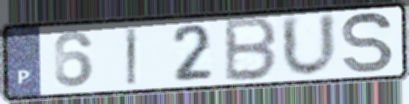2: (170, 23, 215, 83)
6: (51, 29, 97, 89)
B: (222, 16, 280, 84)
I: (123, 26, 141, 88)
S: (339, 10, 396, 75)
U: (279, 11, 341, 80)
